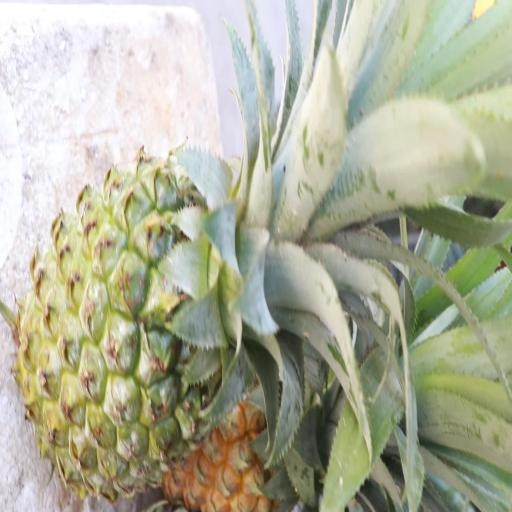------------------------------: (20, 176, 250, 487)
Pineapple - v8 v1: (170, 358, 342, 512)
